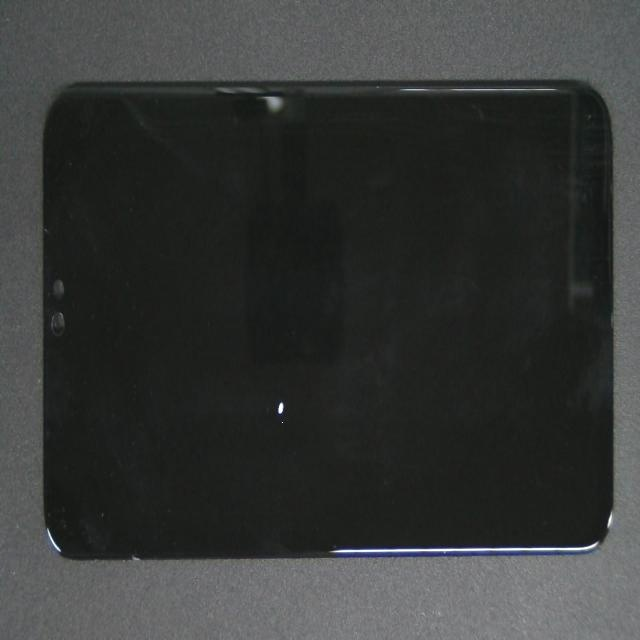stain: (122, 191, 401, 623)
